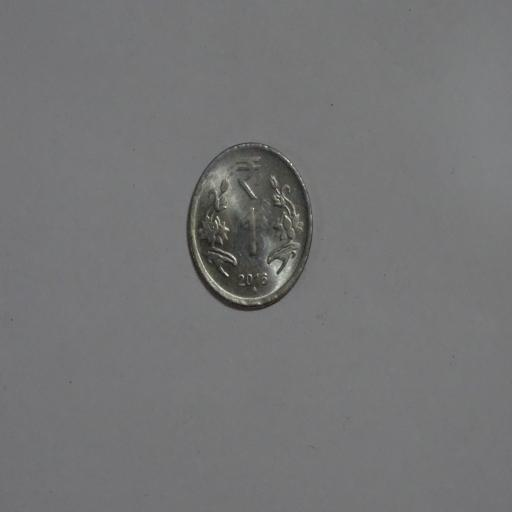rupee1: (185, 142, 314, 310)
